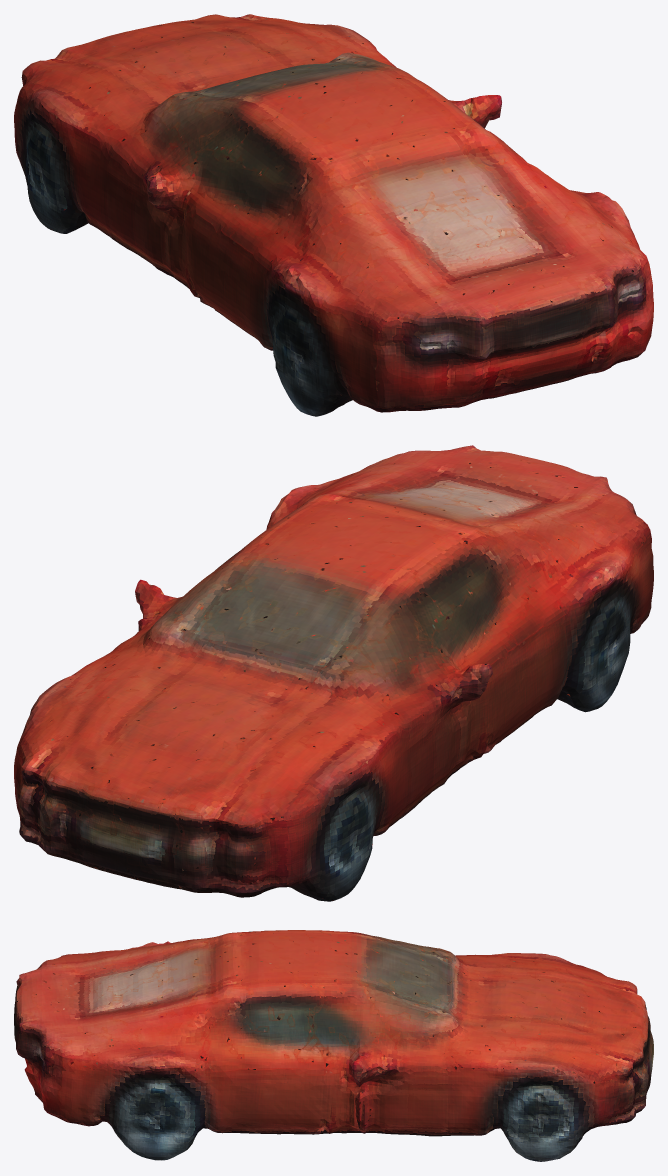
The model's file is a fast car.glb.
3 renders of one model, top to bottom at view 1: azimuth 30°, elevation 25°; view 2: azimuth 150°, elevation 25°; view 3: azimuth 270°, elevation 25°, orthographic. The views are drawn at different scales.
Size of the model in its own units: 0.4801 by 0.2671 by 0.9961.
Materials: 1 (1 with a texture image).
